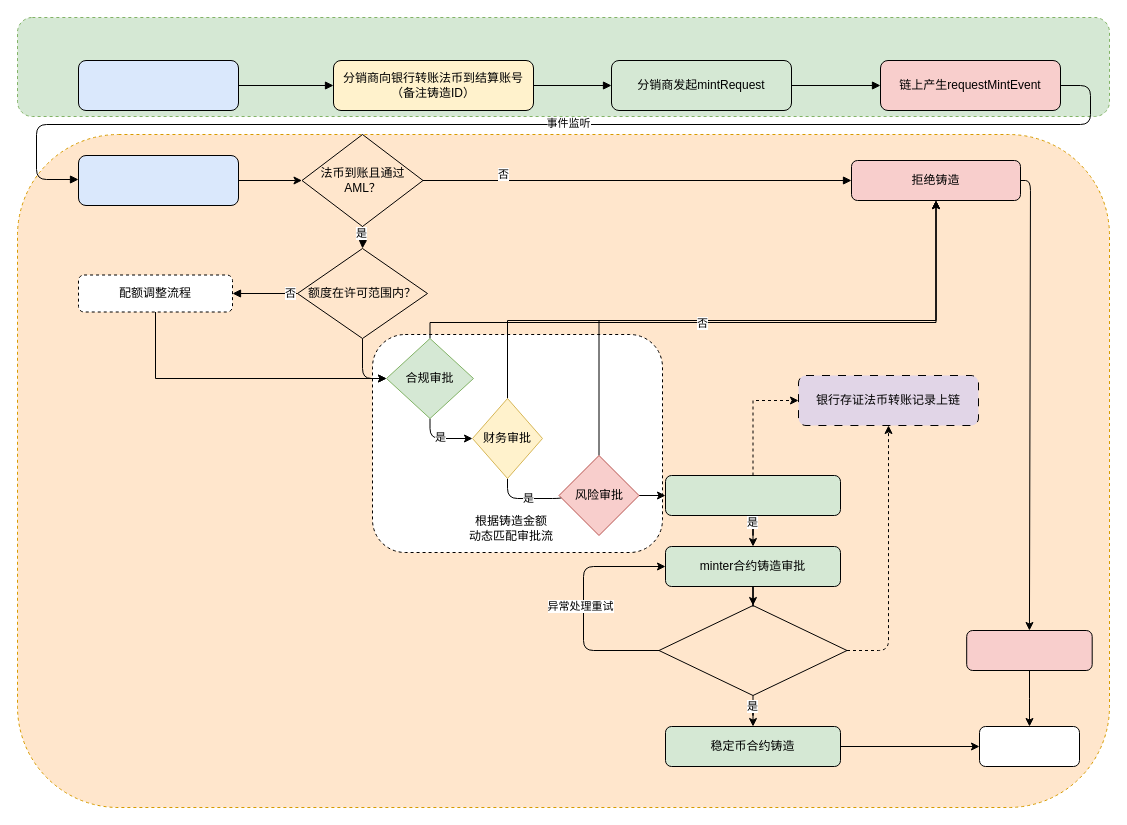
The diagram is 1127 pixels wide and 825 high, and some of its shapes have lost their labels. Each missing label, with the centre of its shape:
"分销商在铸造服务申请铸造ID" belongs at [158,85].
"异常处理" belongs at [1029,650].
"法币从结算账户转移到储备账户" belongs at [752,495].
"流程结束" belongs at [1029,746].
"稳定版运营系统 生成铸造订单" belongs at [158,180].
"铸造校验法币转账存证通过？" belongs at [752,650].
